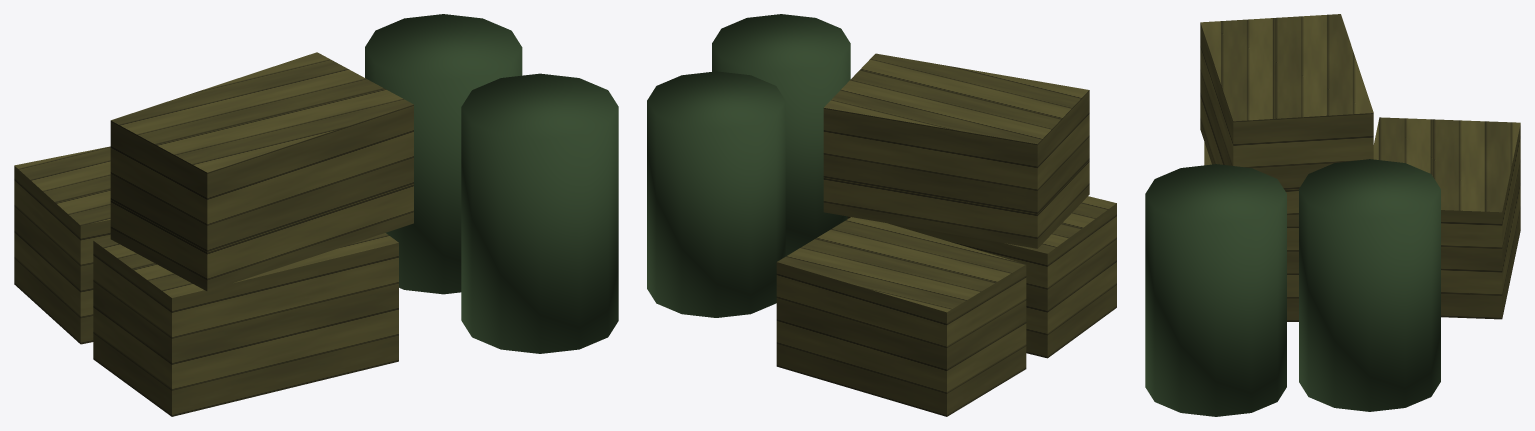
File: supplies.glb
The picture shows the model from 3 angles, left to right: view 1: azimuth 30°, elevation 25°; view 2: azimuth 150°, elevation 25°; view 3: azimuth 270°, elevation 25°; orthographic projection. The views are drawn at different scales.
Visible parts, largest first — view 1: Supplies; view 2: Supplies; view 3: Supplies.
Part boxes in pixels (<box>): Supplies: <box>14,14,618,416</box>; Supplies: <box>647,14,1116,416</box>; Supplies: <box>1145,14,1520,416</box>.
Bounding box in the file's own units: 1.95 × 1 × 1.59.
Materials: 2 (1 with a texture image).
